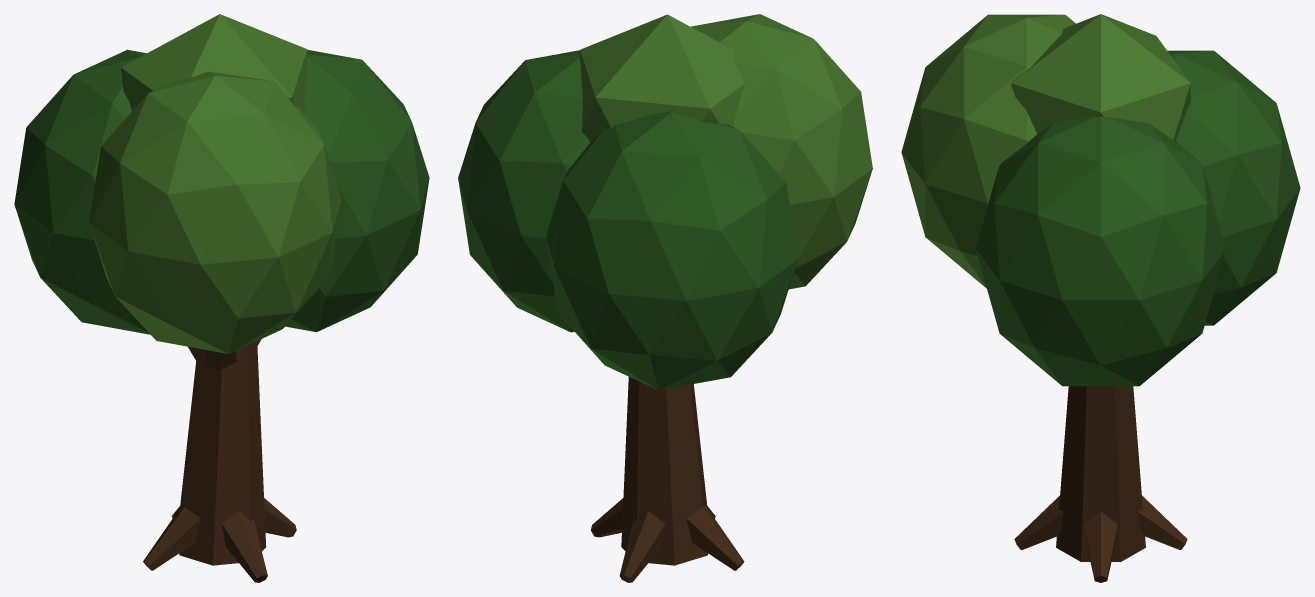
File: Tree0.fbx
3 views of the same model, side by side, from view 1: azimuth 30°, elevation 25°; view 2: azimuth 150°, elevation 25°; view 3: azimuth 270°, elevation 25° (orthographic).
Parts seen in each view (by area): view 1: Tree0_Mesh; view 2: Tree0_Mesh; view 3: Tree0_Mesh.
Part boxes in pixels (x1,y1,x2,y2): Tree0_Mesh: (14,14,429,582); Tree0_Mesh: (458,14,872,582); Tree0_Mesh: (901,14,1300,582).
Bounding box in the file's own units: 1.18 × 1.79 × 1.21.
